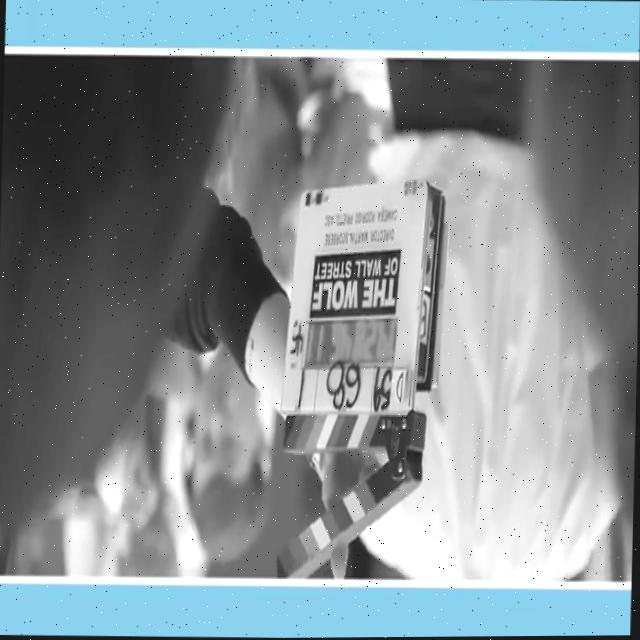Clapperboard: (273, 178, 448, 579)
